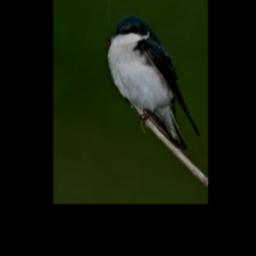Swallow: (105, 11, 201, 151)
